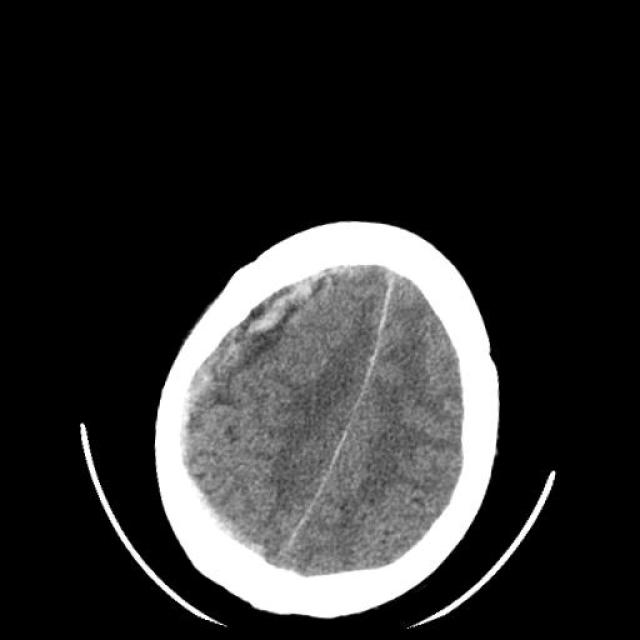Subdural: (133, 228, 354, 438)
